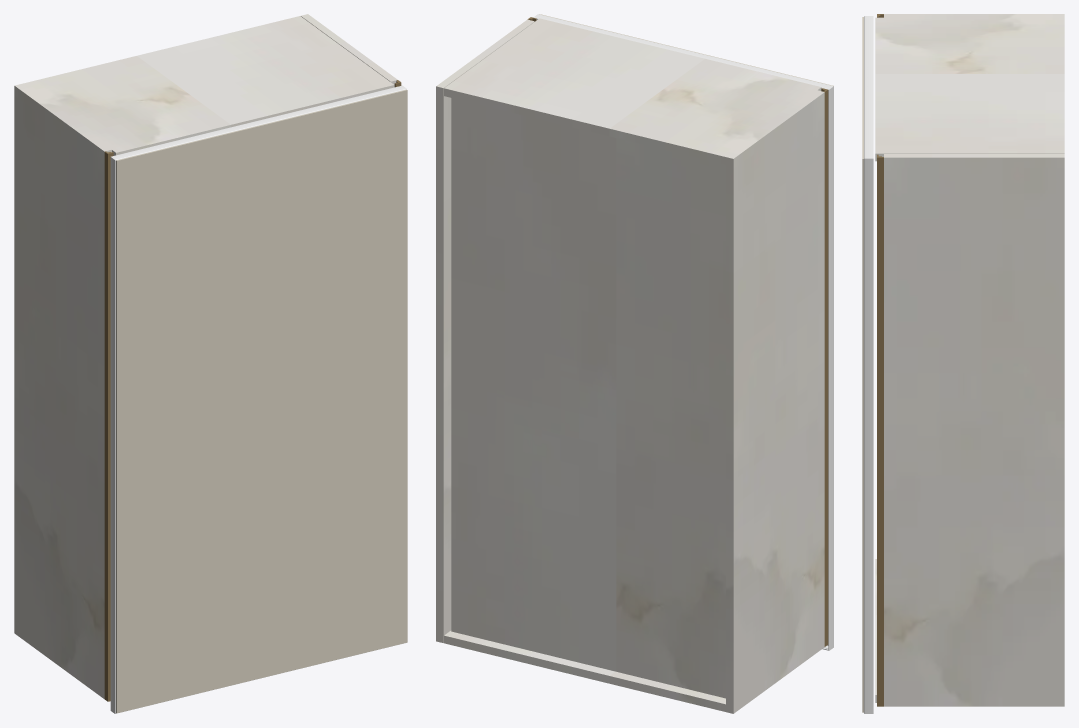
The picture shows the model from 3 angles, left to right: view 1: azimuth 30°, elevation 25°; view 2: azimuth 150°, elevation 25°; view 3: azimuth 270°, elevation 25°; orthographic projection.
Size of what is drawn, in the model's own units: 0.6 by 1.09 by 0.3569.
Materials: 7 (2 with a texture image).
